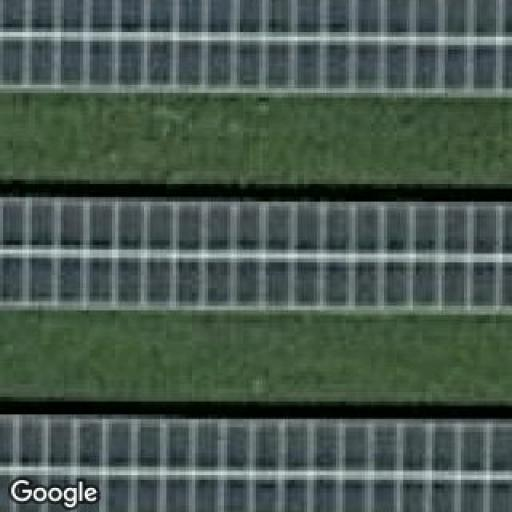solar-panel: (0, 195, 512, 315), (0, 0, 512, 102), (0, 421, 512, 512)
